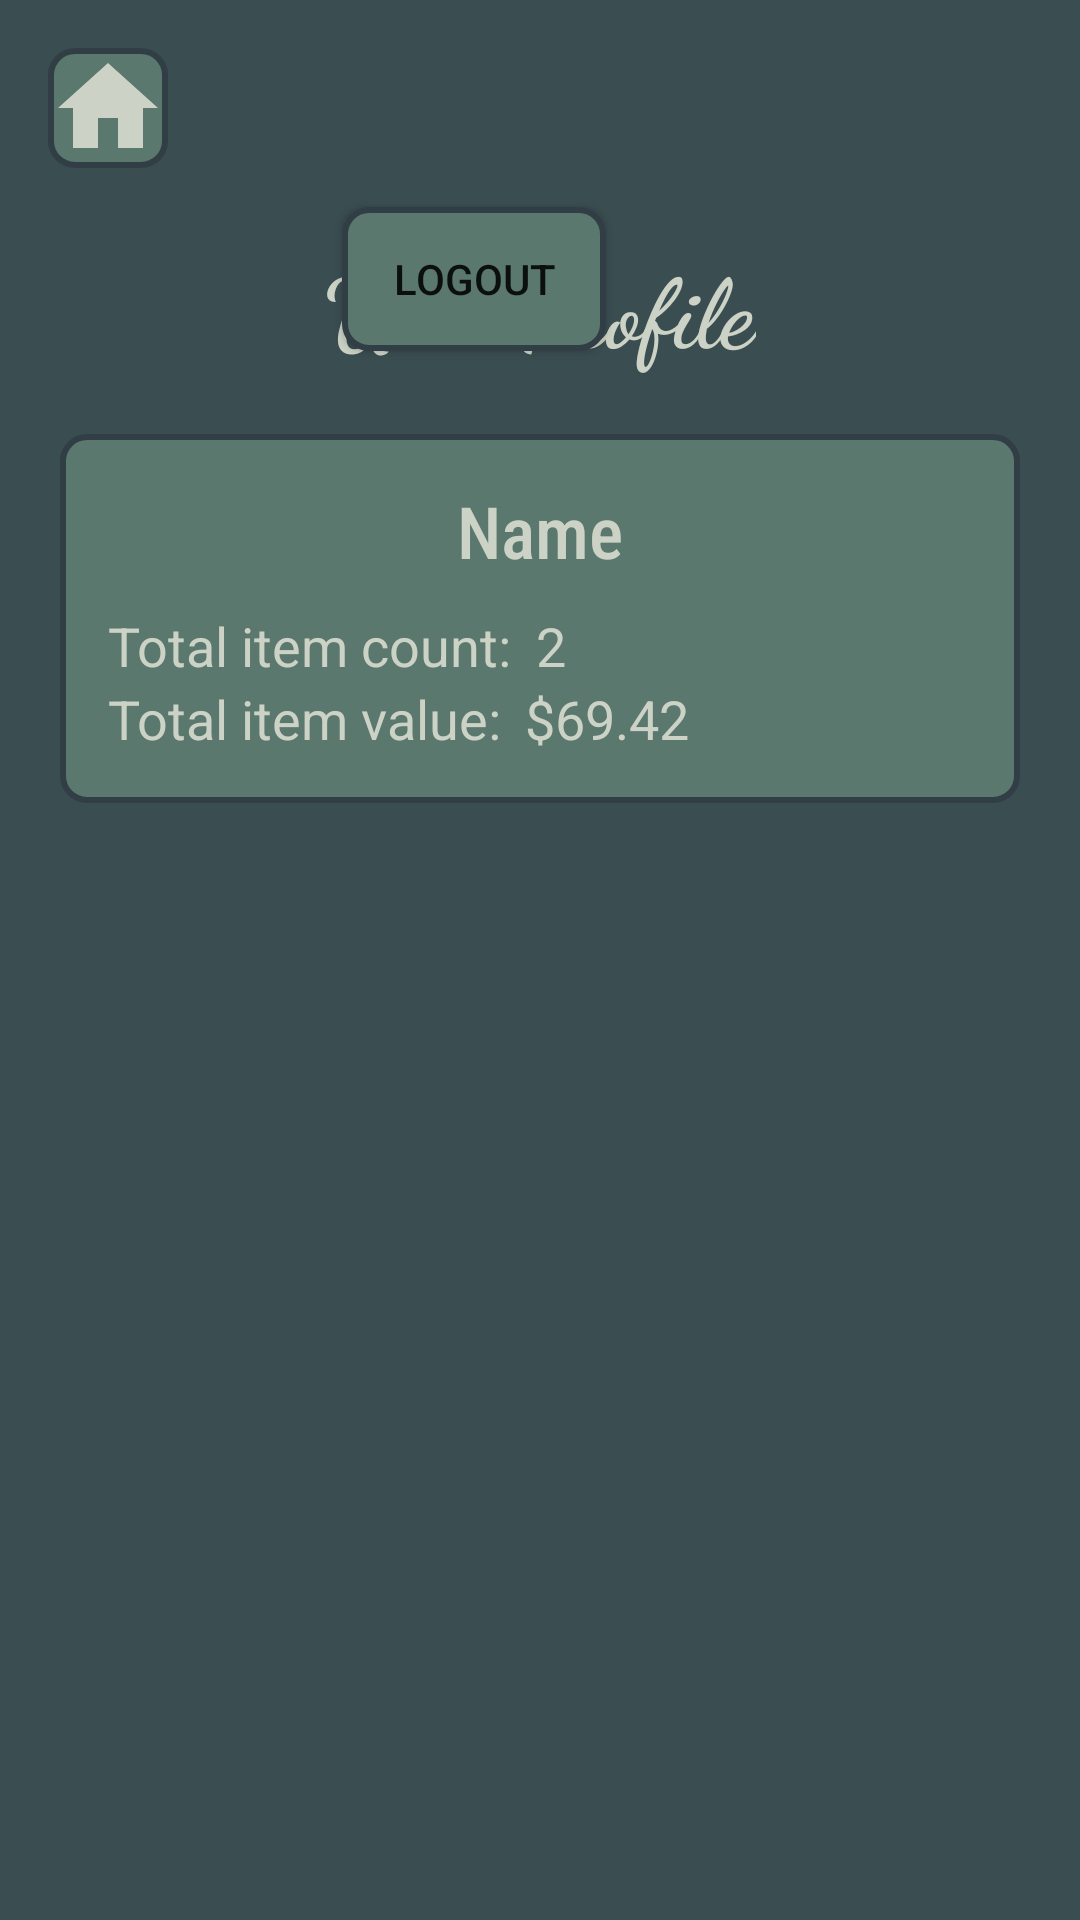

Where icons sit on this 1080x1920 app screen, as (x1,y1,x2,y2):
home: (54,54,162,162)
